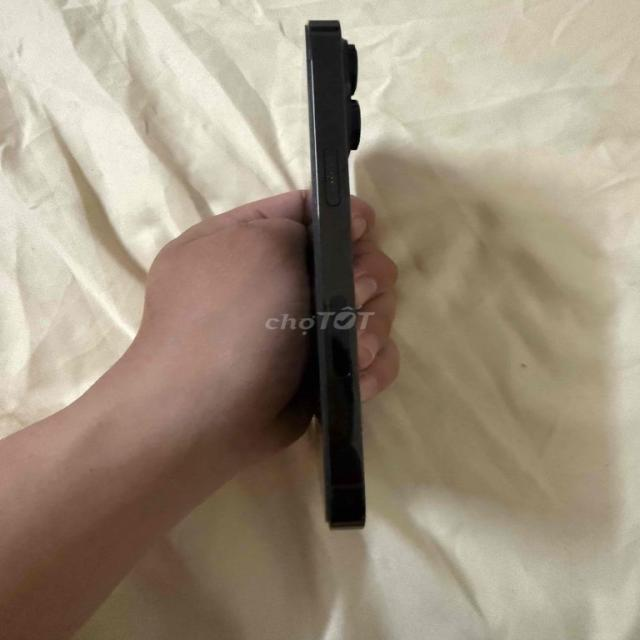gen_14: (291, 17, 398, 540)
